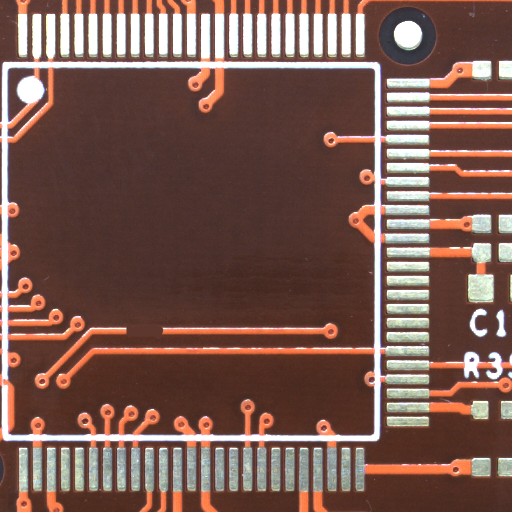Open_circuit: (144, 329, 183, 346)
